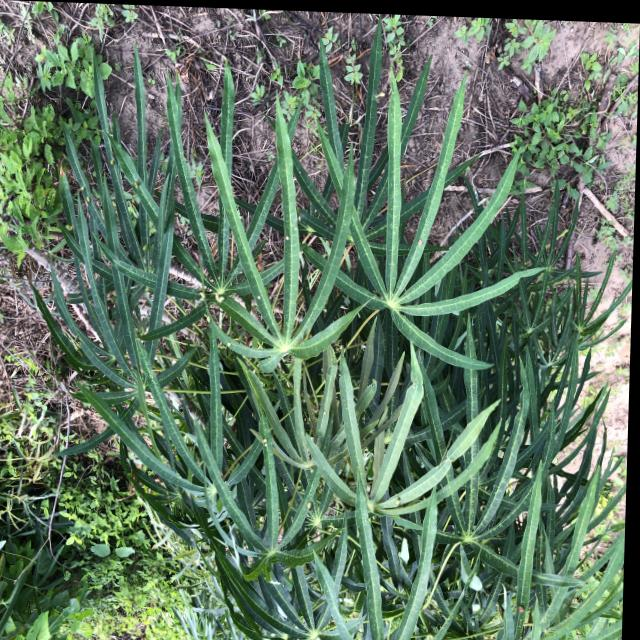Mosca: (202, 269, 232, 310), (370, 431, 393, 451), (220, 337, 244, 354), (250, 287, 269, 308), (257, 432, 272, 457), (280, 229, 297, 247)
